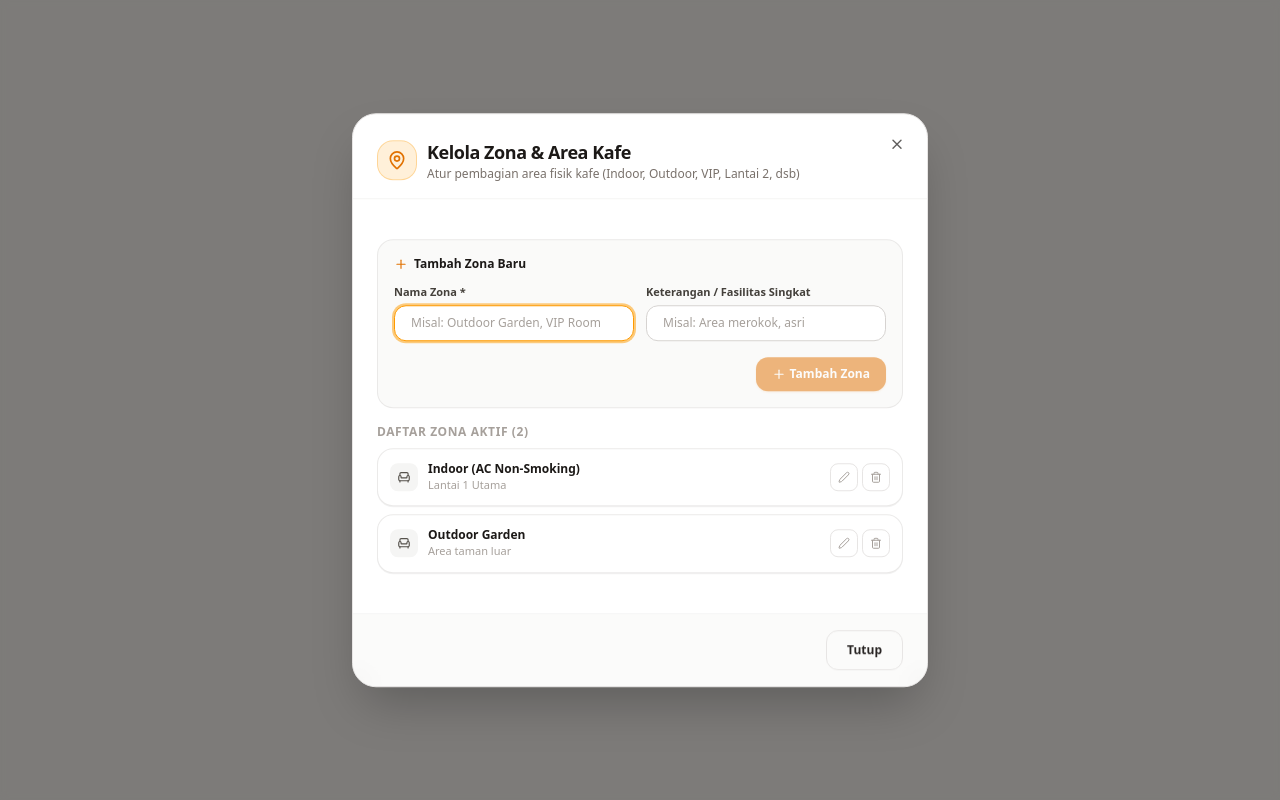
Table Modals › ZoneManagerModal › handles editing an existing zone, submitting updates, and canceling edit
Click the 3rd button: (844, 477) [830,463,858,491]
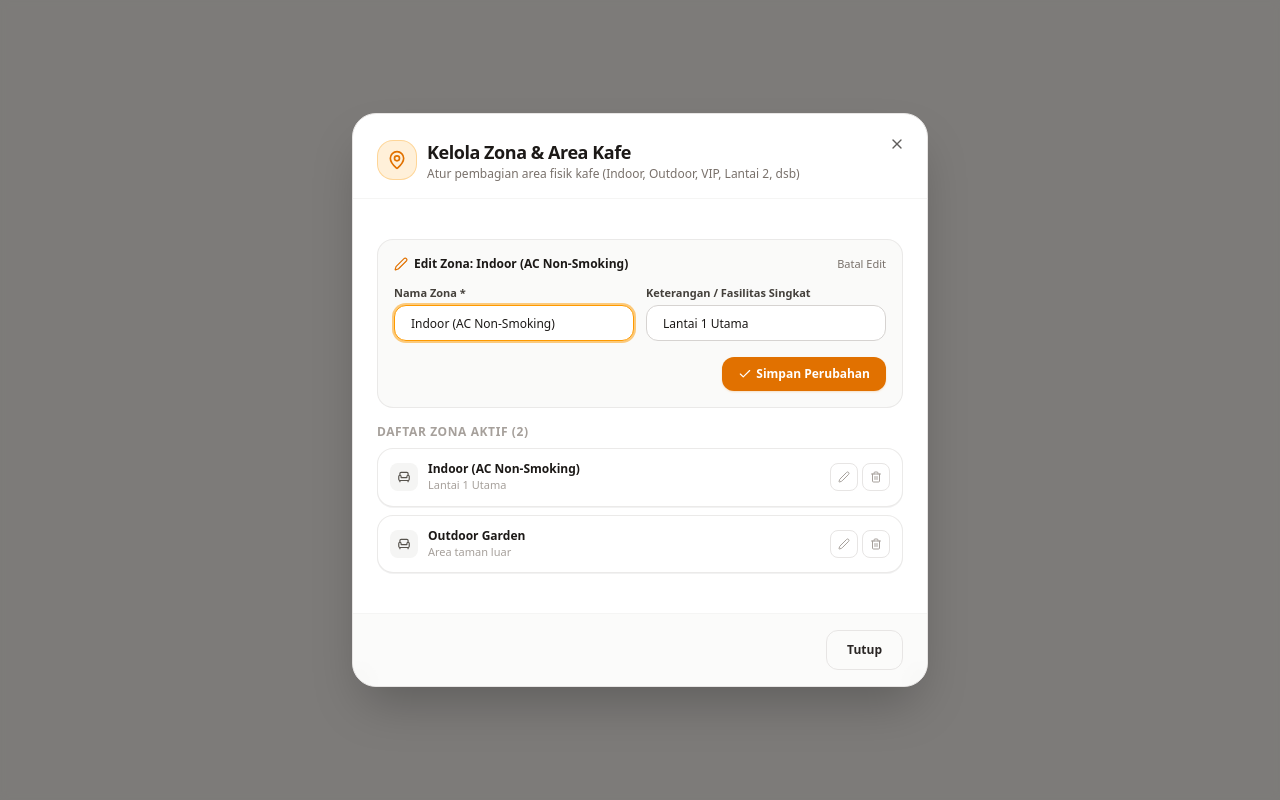
Expected: the button "Simpan Perubahan" is shown, [722,357,886,391]
Update name and submit
Replace the text in the field with placeholder "Misal: Outdoor Garden, VIP Room" below "Nama Zona *" with "Indoor AC VIP Updated": (514, 323) [394,305,634,341]
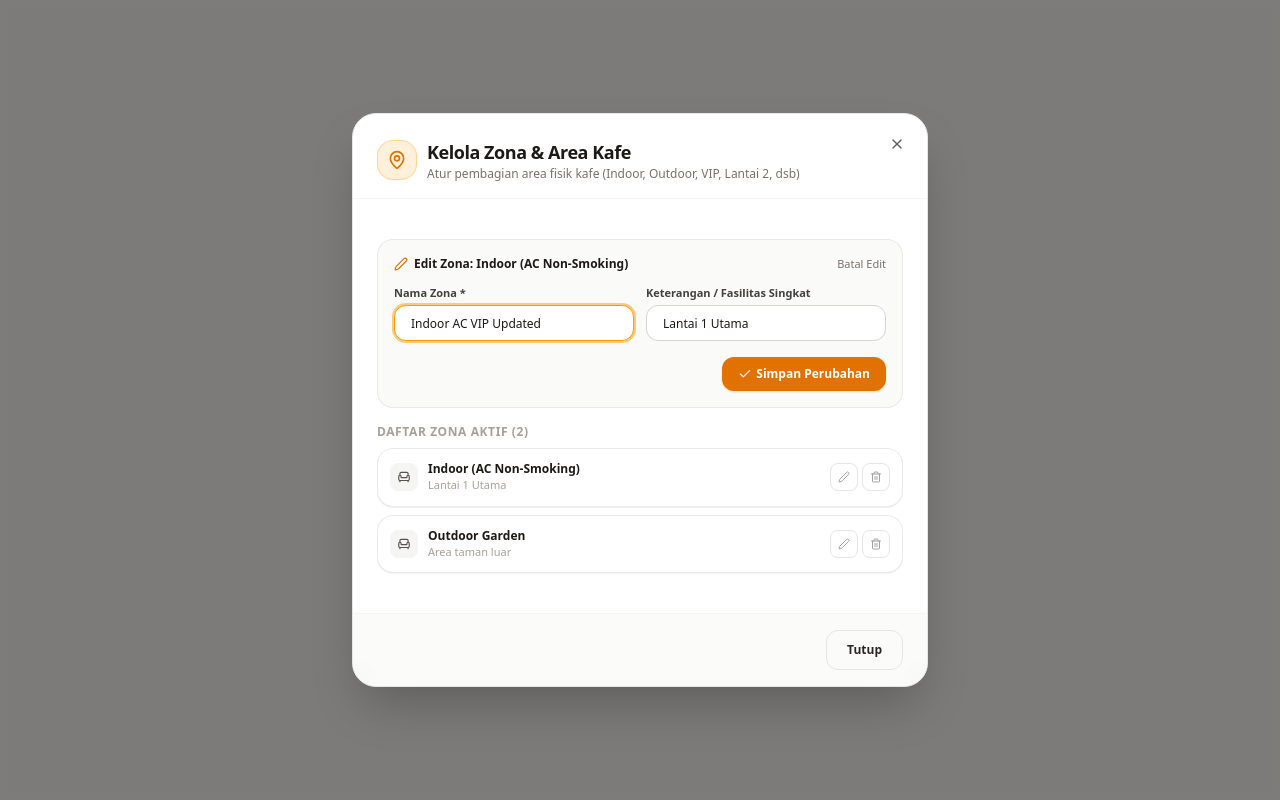
Click the button "Simpan Perubahan": (804, 374) [722,357,886,391]
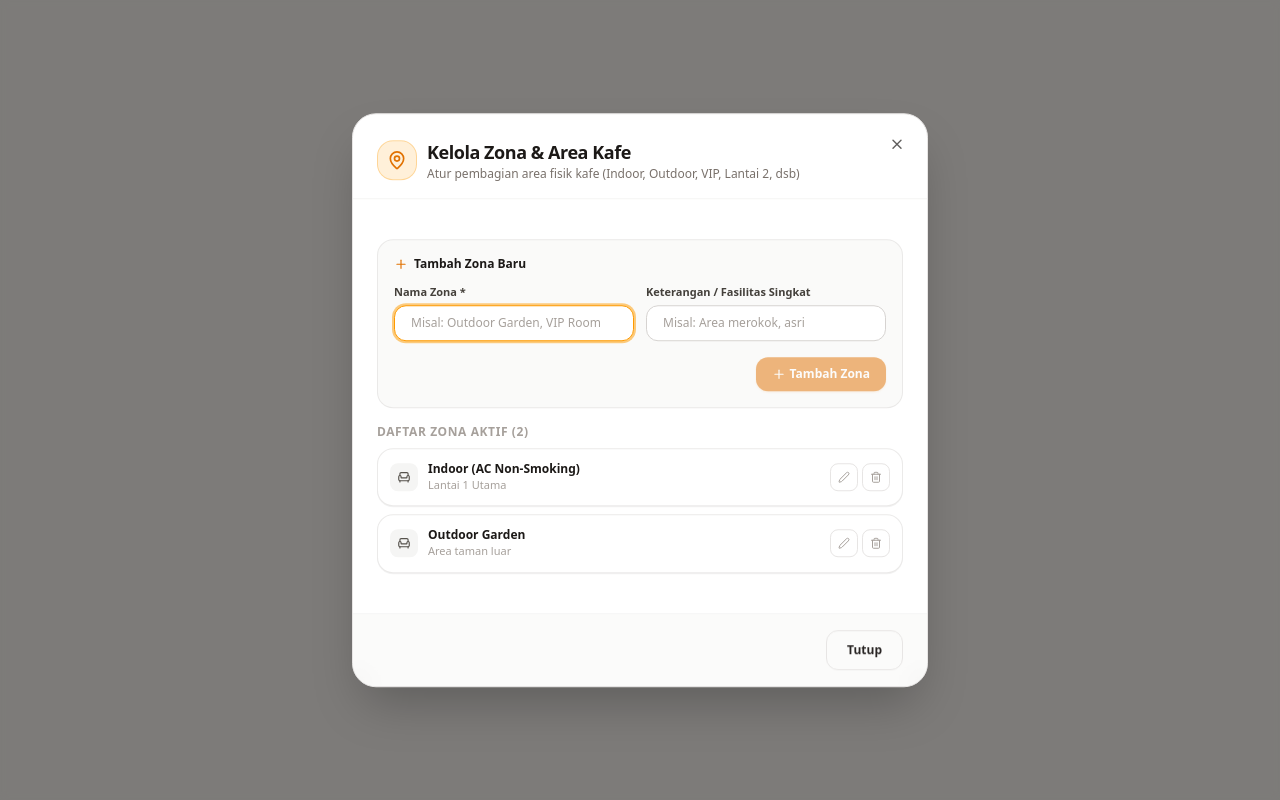
Re-open edit and cancel
Click the 3rd button: (844, 477) [830,463,858,491]
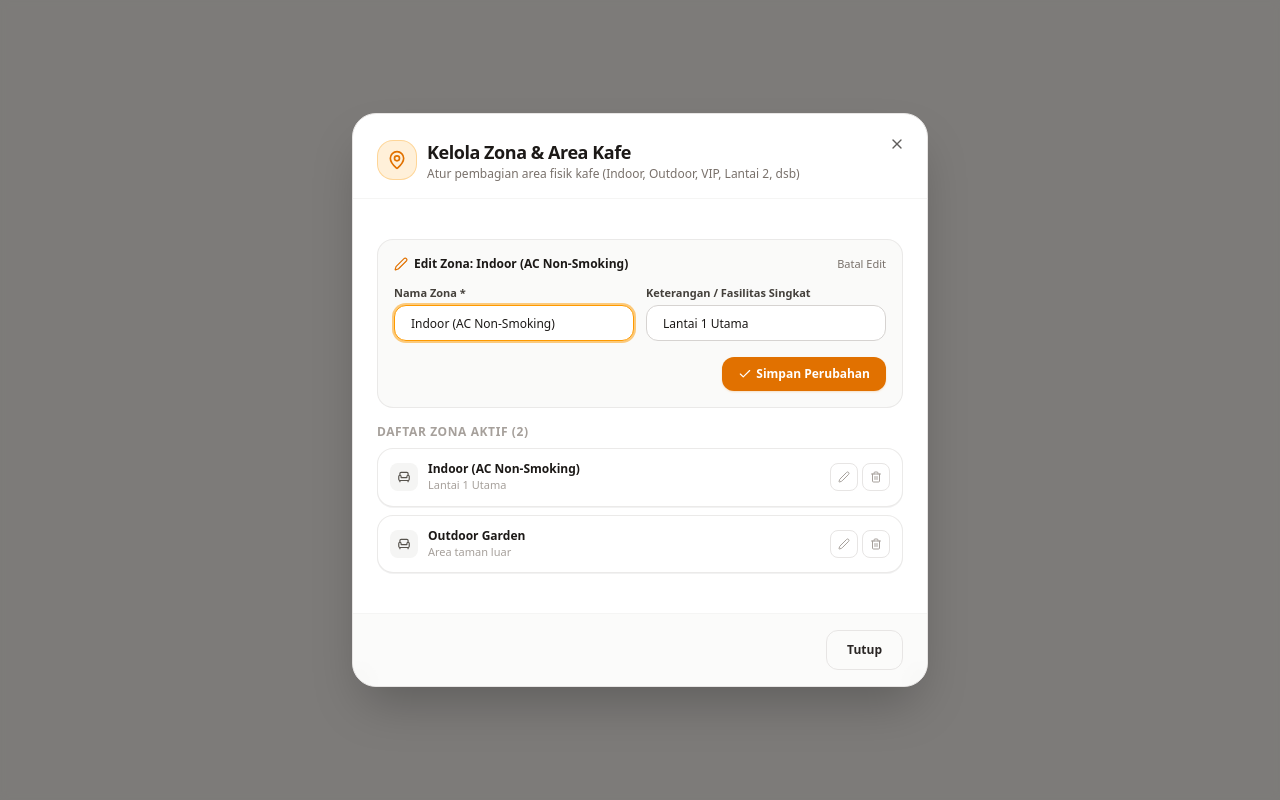
Click the button "Batal Edit": (862, 264) [837,256,886,272]
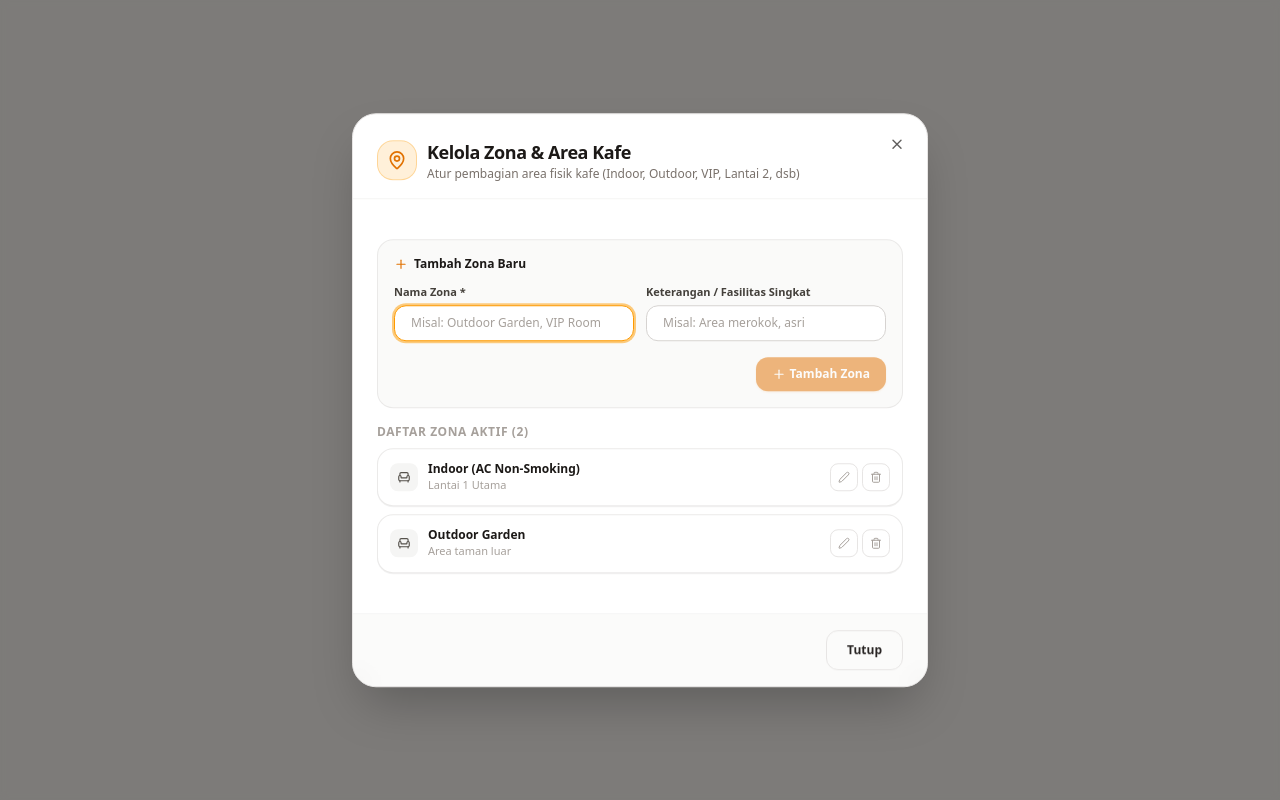
Expected: the button "Tambah Zona" is shown, [756,357,886,391]
